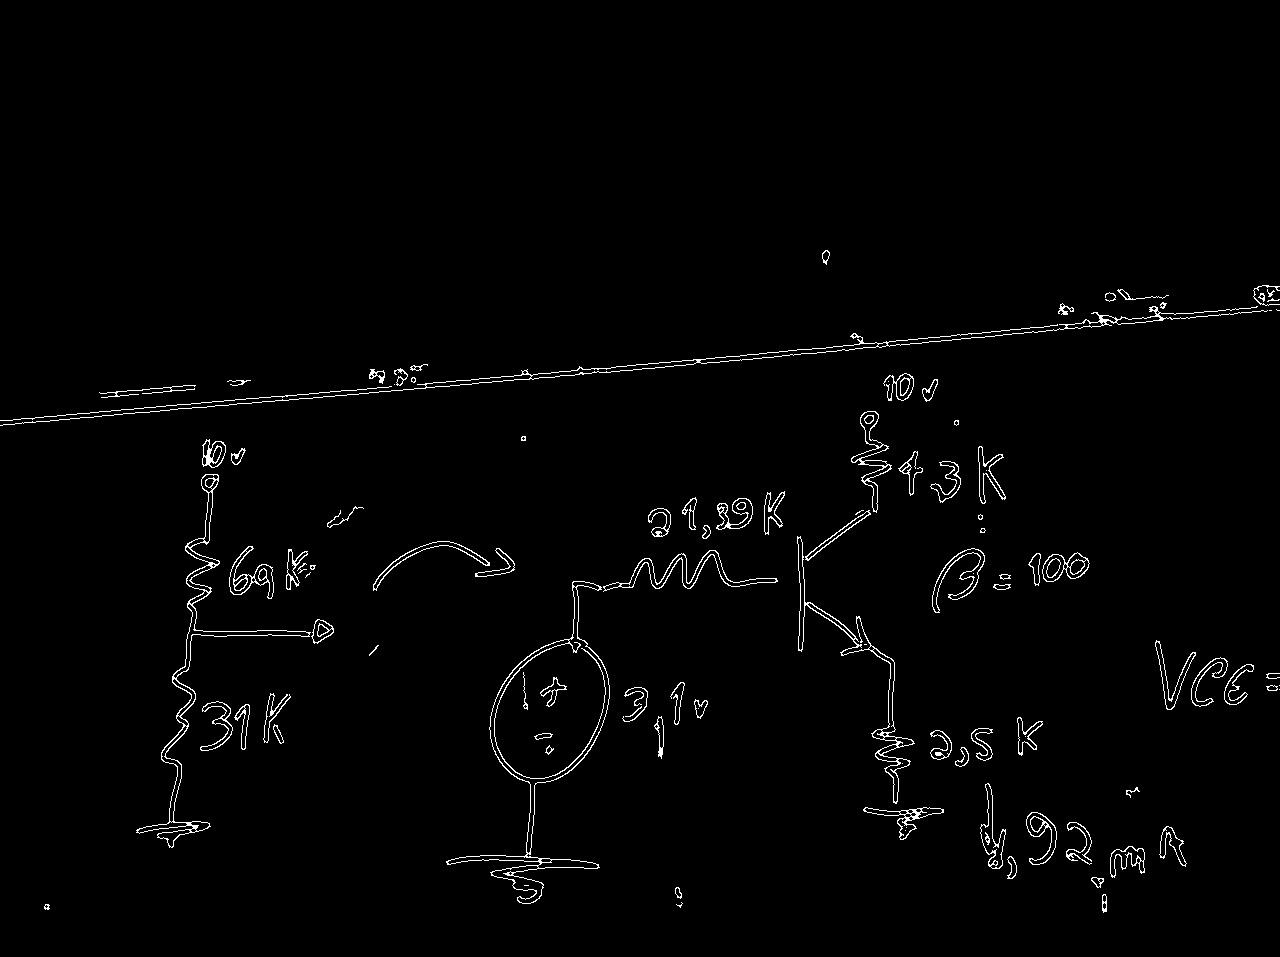ground0: (440, 835, 604, 947), (857, 789, 950, 887), (131, 801, 218, 885)
resistor: (609, 543, 754, 602), (155, 638, 201, 799), (173, 515, 228, 628), (865, 702, 919, 795), (845, 429, 898, 503)
voltage: (487, 615, 618, 795)
